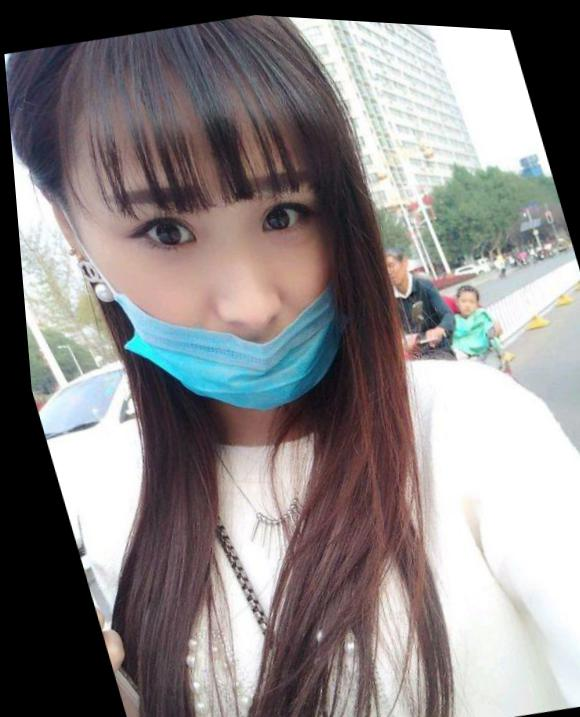NONE: (375, 251, 403, 281), (452, 288, 476, 313)
WRONG: (65, 128, 382, 440)
